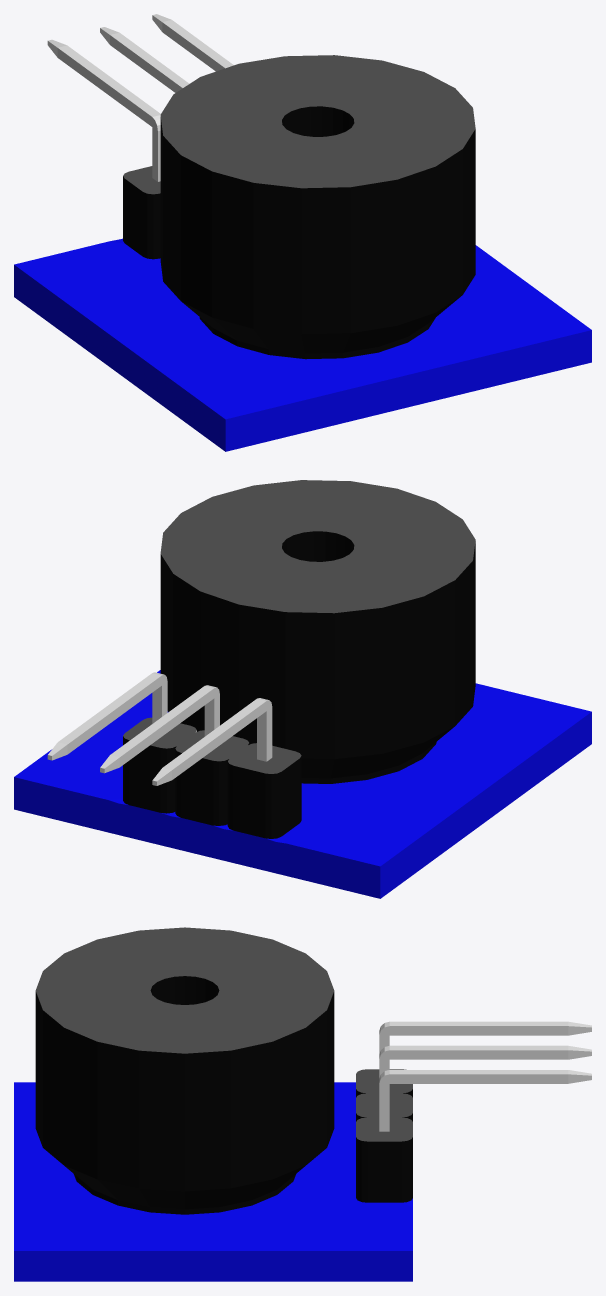
Rendered from Buzzer.glb.
The picture shows the model from 3 angles, top to bottom: view 1: azimuth 30°, elevation 25°; view 2: azimuth 150°, elevation 25°; view 3: azimuth 270°, elevation 25°; orthographic projection. The views are drawn at different scales.
Visible parts, largest first — view 1: Cube, INPUT, VIN; view 2: Cube, INPUT, VIN; view 3: Cube, INPUT.
Part boxes in pixels (box(x1,y1,x2,y2)): Cube: box(14, 14, 591, 451); INPUT: box(113, 35, 189, 87); VIN: box(165, 25, 224, 71); Cube: box(14, 480, 591, 898); INPUT: box(114, 688, 212, 763); VIN: box(70, 677, 160, 751); Cube: box(14, 927, 591, 1281); INPUT: box(393, 1045, 561, 1050).
Size of the model in its own units: 1.89 by 1.08 by 2.74.
